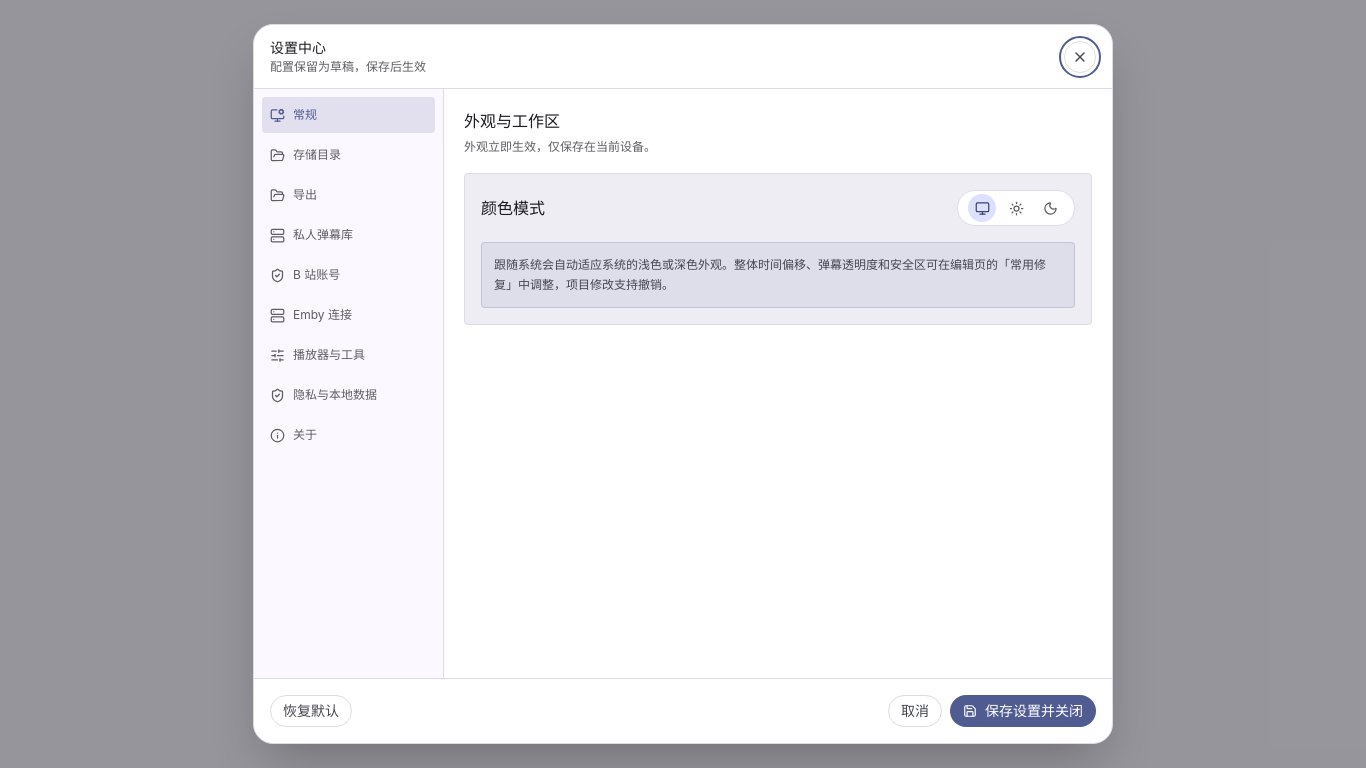
Test: 设置中心 › 清除失败恢复操作，迟到读取不会复活清除前的草稿
Click the button "隐私与本地数据".
click(348, 395)  # box [262,377,435,413]
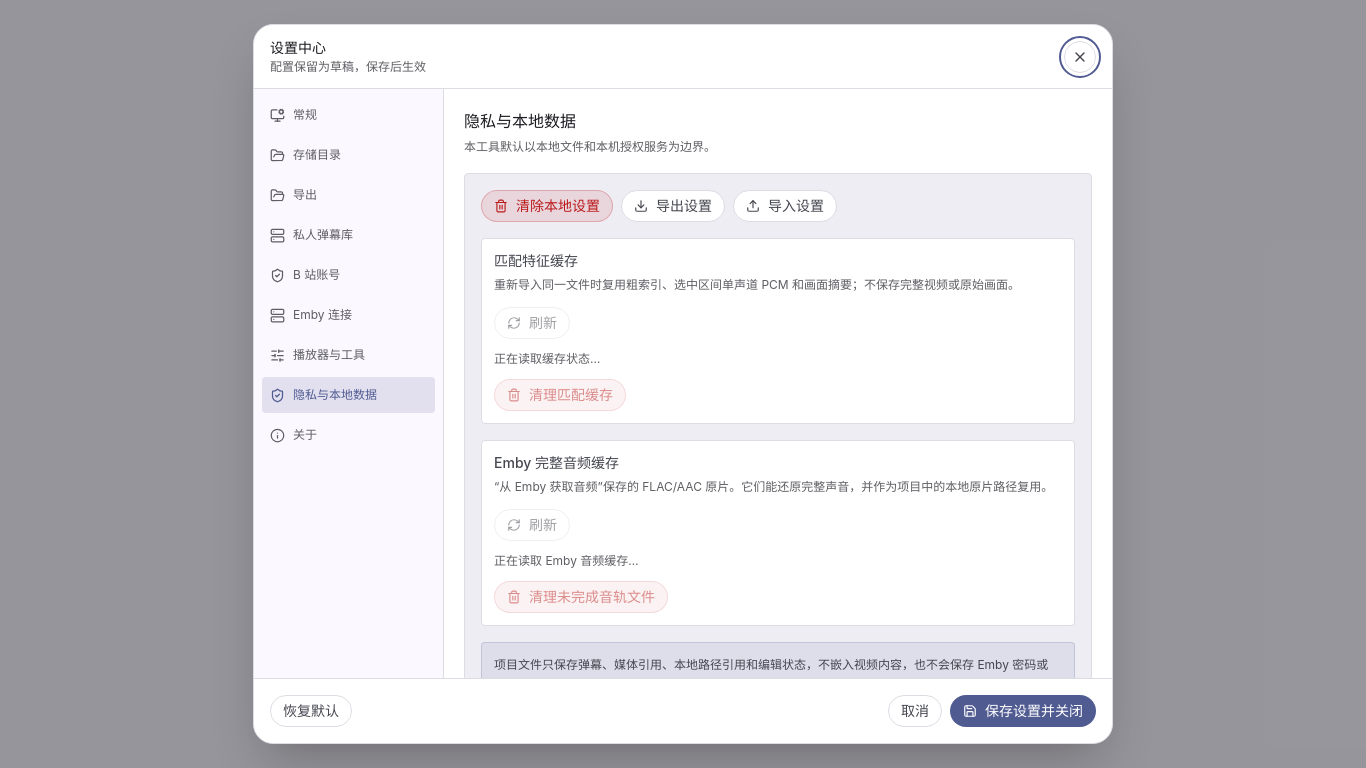
Click the button "清除本地设置".
click(547, 206)  # box [481,190,613,222]
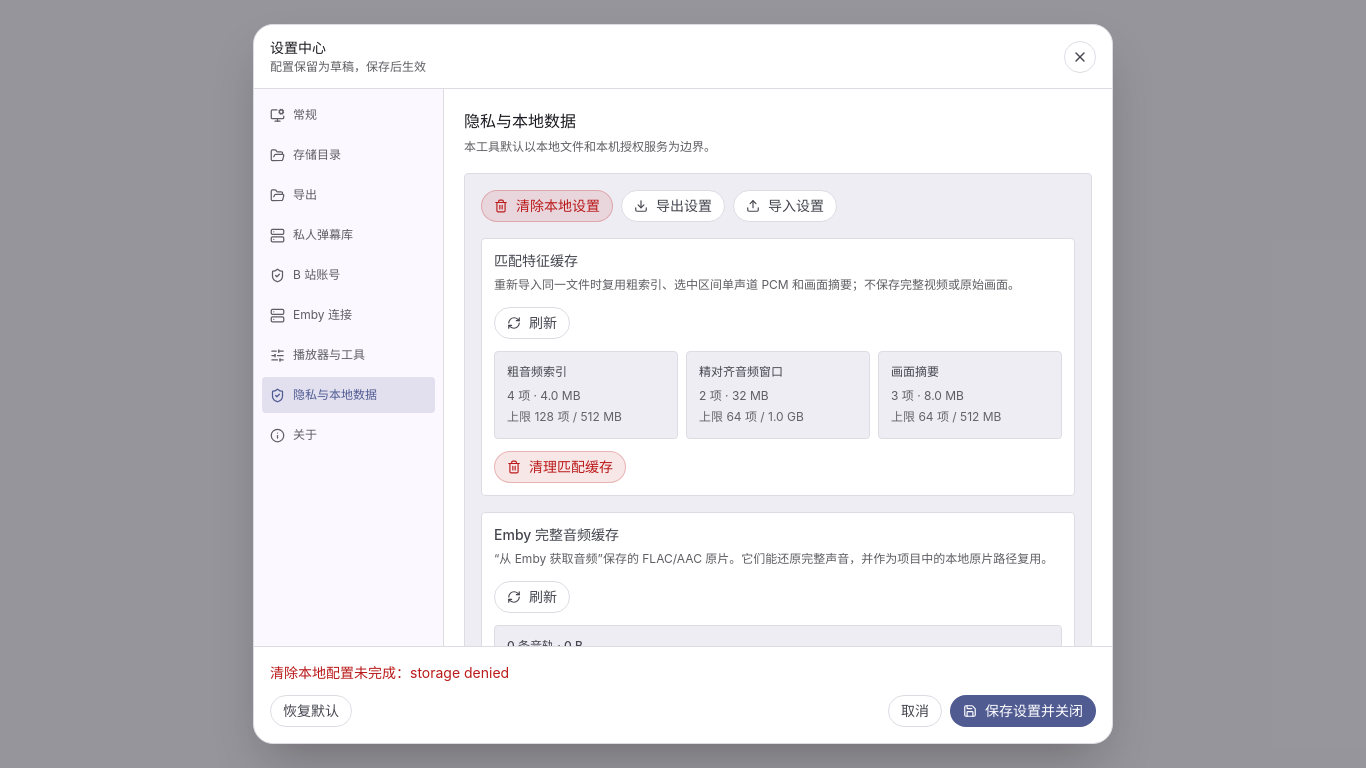
Expected: the button "取消" is enabled, [888,695,942,727]
Expected: the message shows "storage denied", [270,664,509,681]
Click the button "导出".
click(348, 195)  # box [262,177,435,213]
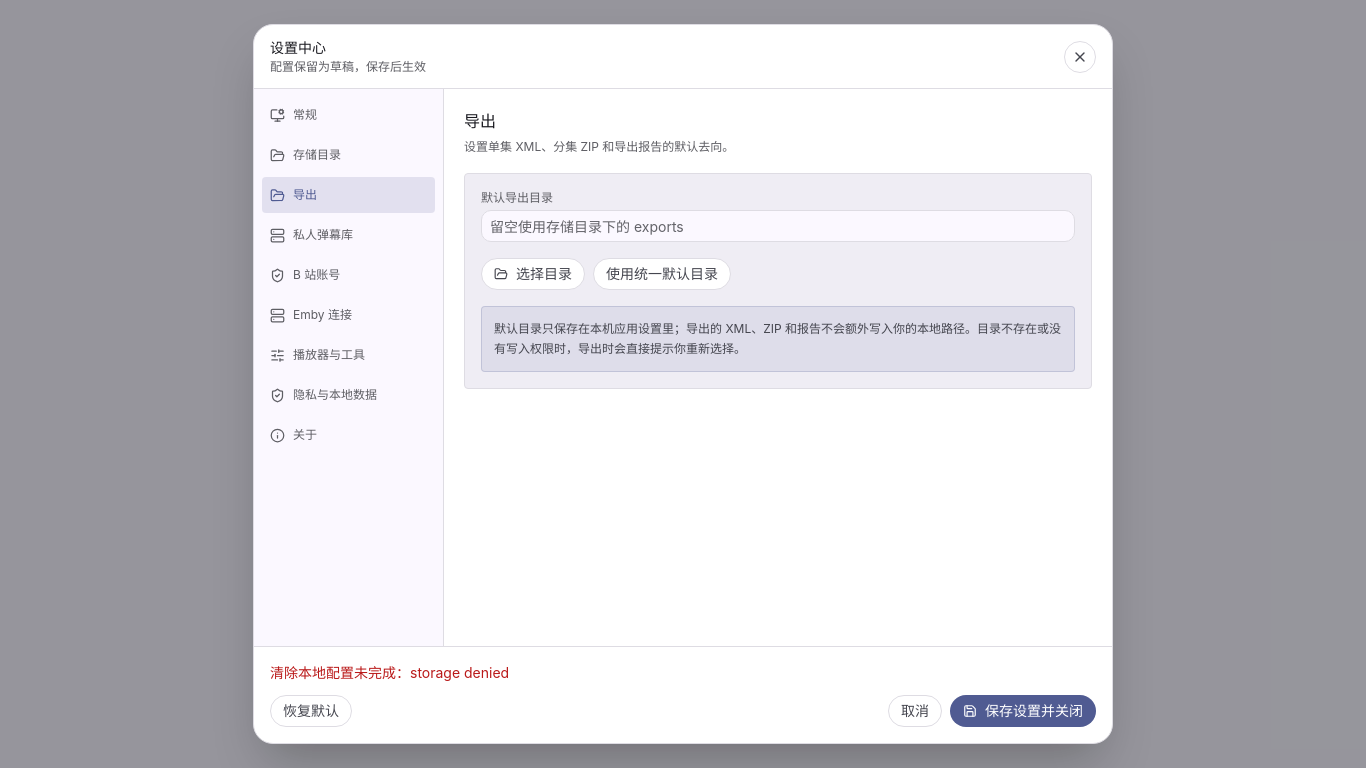
Expected: the field labelled "默认导出目录" does not hold "D:/stale", [481,210,1075,242]
